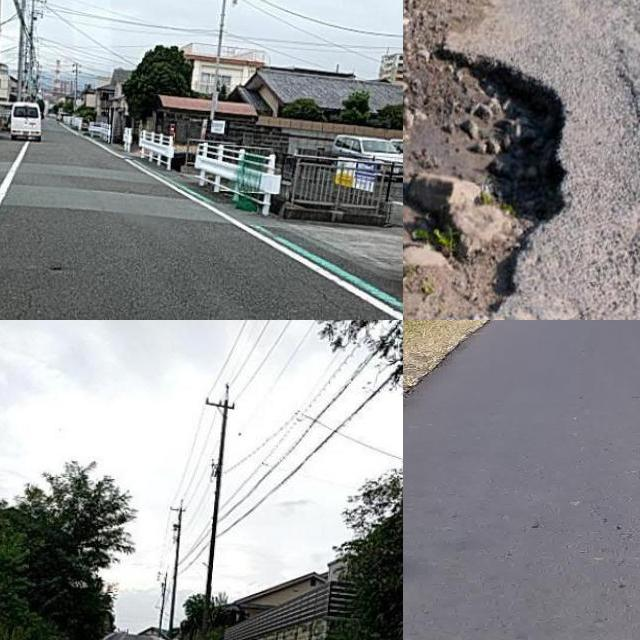Pinggir: (403, 21, 596, 320)
